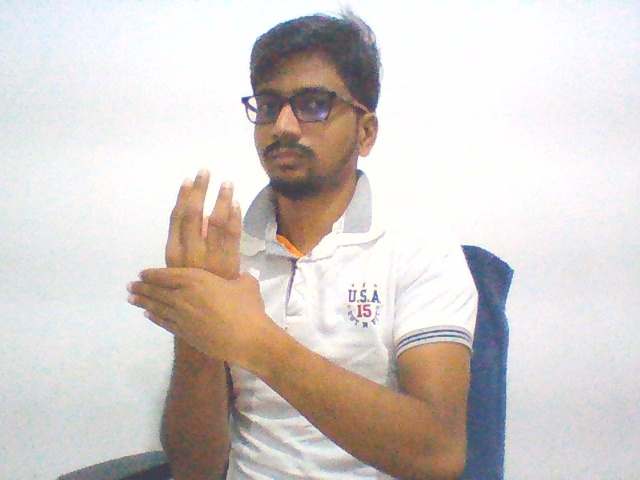tree: (115, 149, 282, 372)
